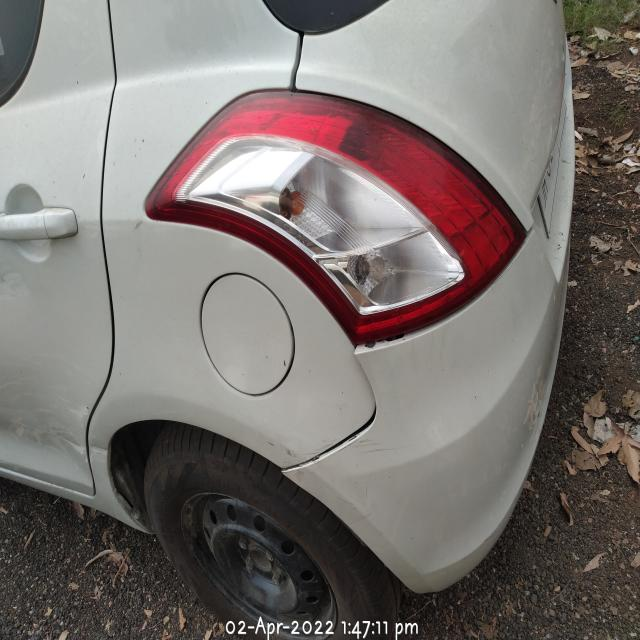damage: (275, 330, 408, 512), (524, 369, 547, 441)
